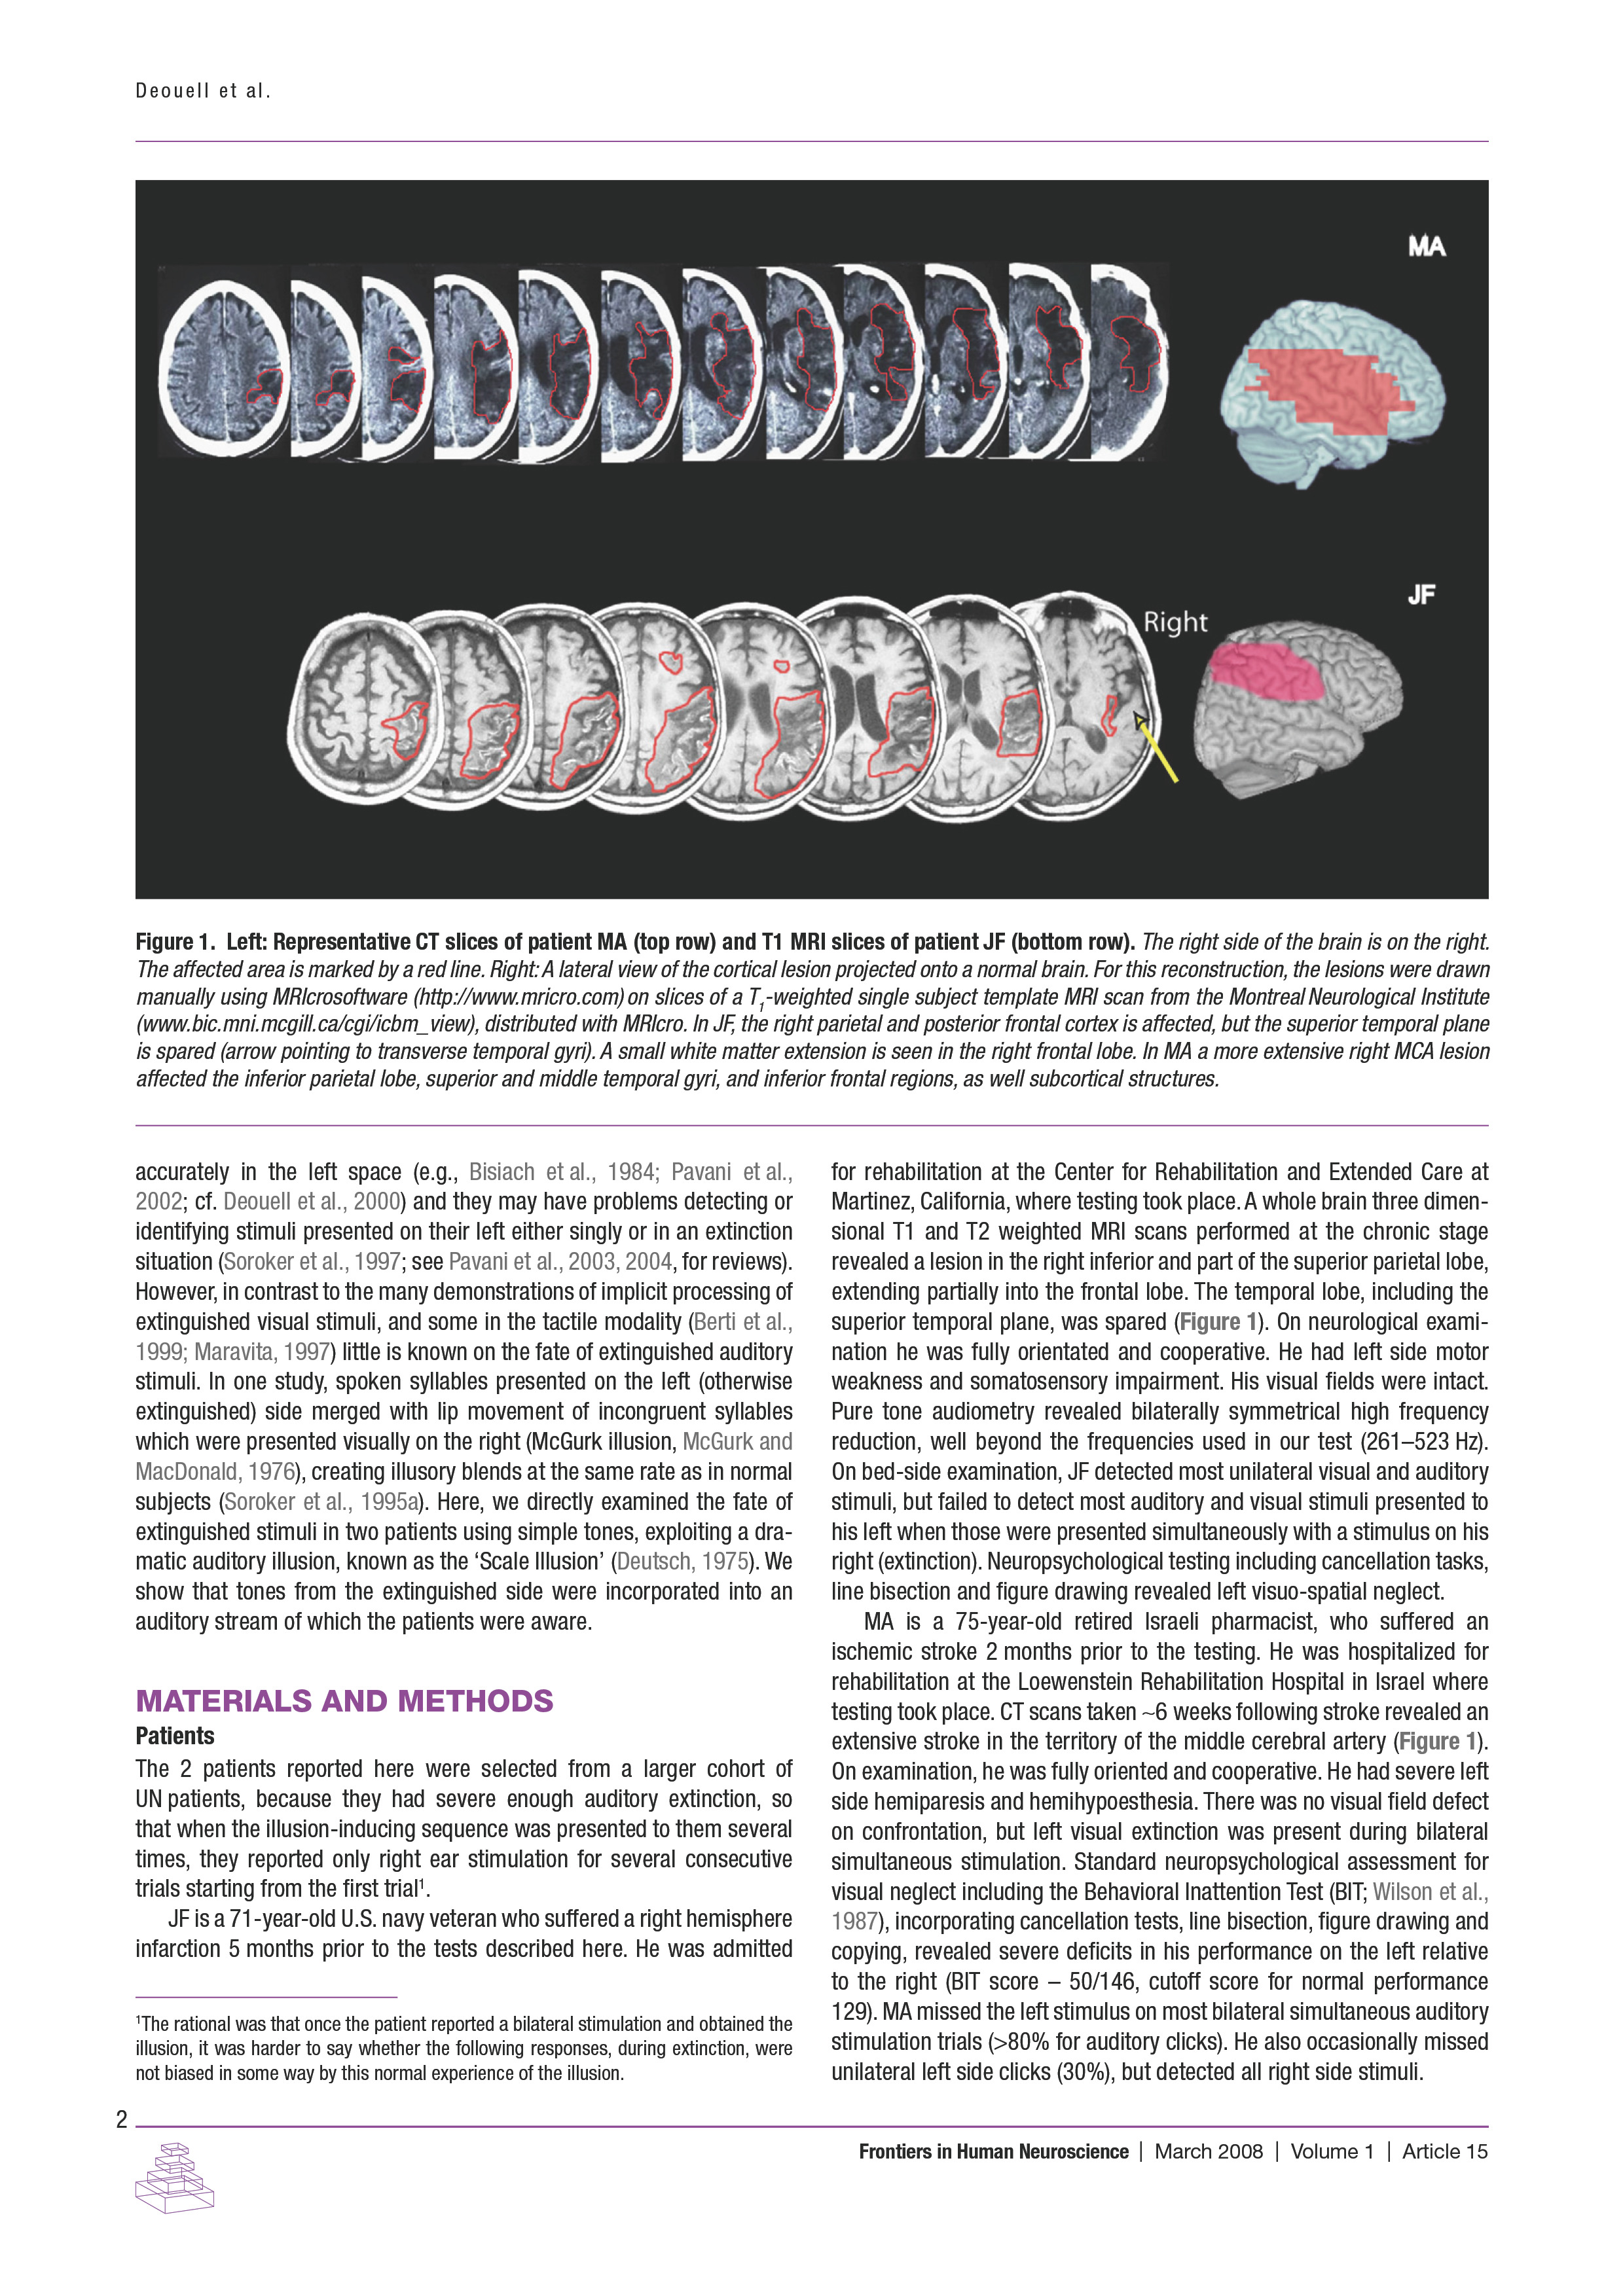caption: (137, 920, 1498, 1085)
figure: (141, 172, 1502, 909)
section: (130, 1676, 564, 1722)
text: (123, 1155, 803, 1641), (826, 1610, 1484, 2096), (824, 1148, 1491, 1606), (130, 1761, 804, 1901), (133, 1994, 797, 2103), (141, 1901, 794, 1982)
